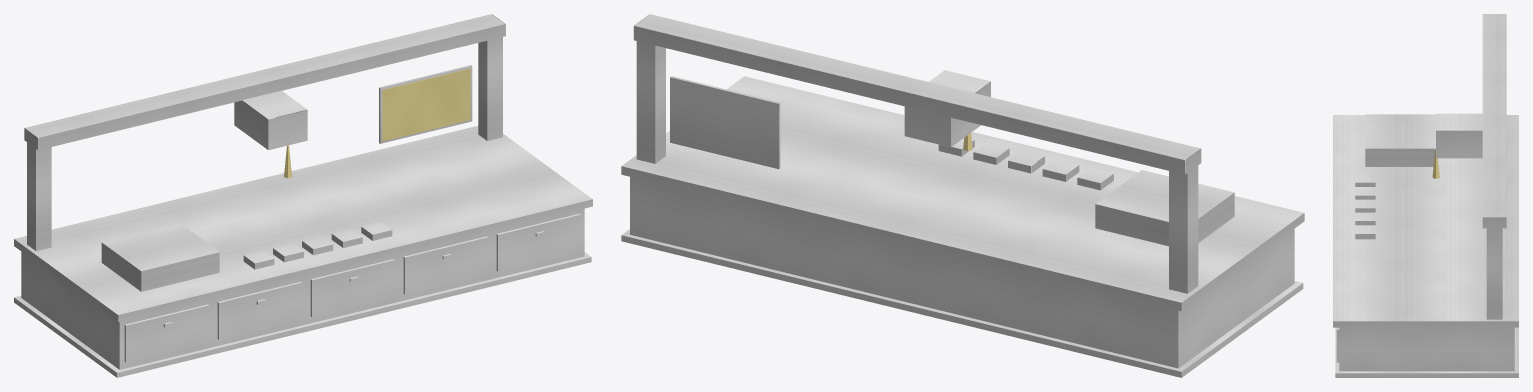
File: fabrication_bench.obj
The picture shows the model from 3 angles, left to right: view 1: azimuth 30°, elevation 25°; view 2: azimuth 150°, elevation 25°; view 3: azimuth 270°, elevation 25°; orthographic projection. The views are drawn at different scales.
Parts seen in each view (by area): view 1: fabrication_bench; view 2: fabrication_bench; view 3: fabrication_bench.
Boxes of the visible parts, bbox=[...] form: fabrication_bench: bbox=[14, 14, 592, 377]; fabrication_bench: bbox=[621, 14, 1304, 377]; fabrication_bench: bbox=[1333, 14, 1518, 377].
Size of the model in its own units: 4.84 by 1.74 by 1.84.
